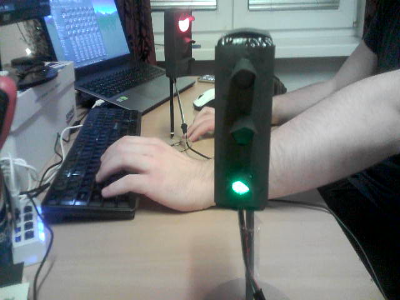trafficlight_green: (216, 39, 269, 207)
trafficlight_red: (174, 13, 192, 73)
